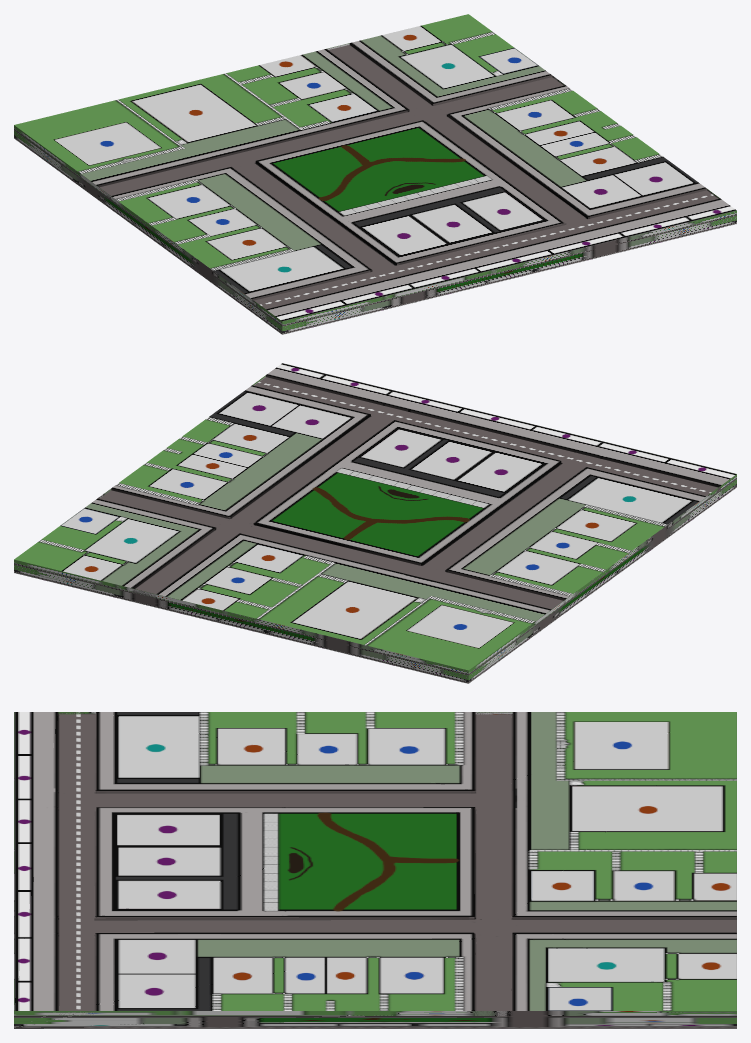
The model's file is RacoonMap.fbx.
3 renders of one model, top to bottom at view 1: azimuth 30°, elevation 25°; view 2: azimuth 150°, elevation 25°; view 3: azimuth 270°, elevation 25°, orthographic. The views are drawn at different scales.
Visible parts, largest first — view 1: Box002; view 2: Box002; view 3: Box002.
Part boxes in pixels (x1,y1,x2,y2): Box002: [14, 14, 736, 334]; Box002: [14, 363, 736, 683]; Box002: [14, 712, 736, 1028].
Bounding box in the file's own units: 3544 × 100 × 3624.
